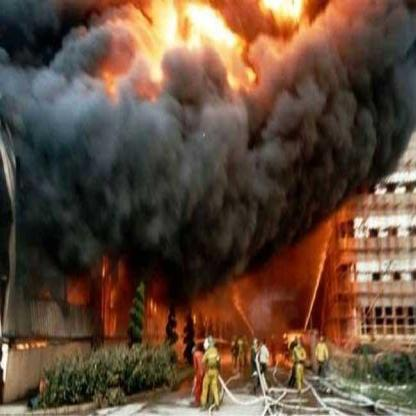smoke: (11, 0, 400, 281)
